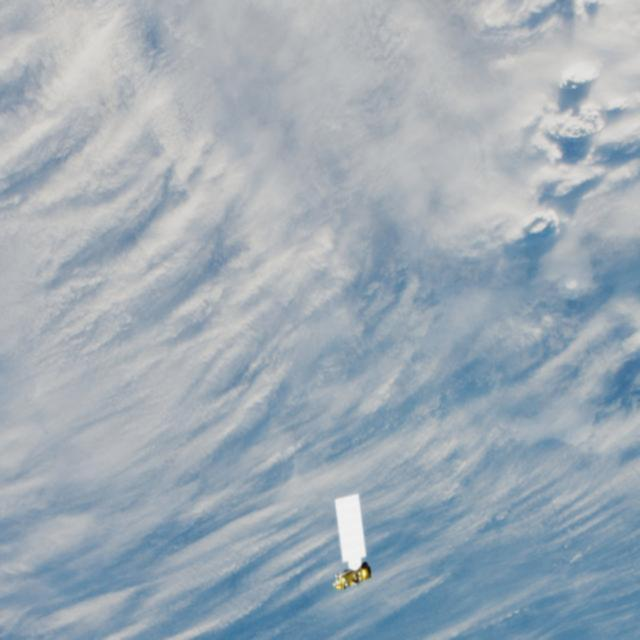satellite: (332, 481, 382, 598)
